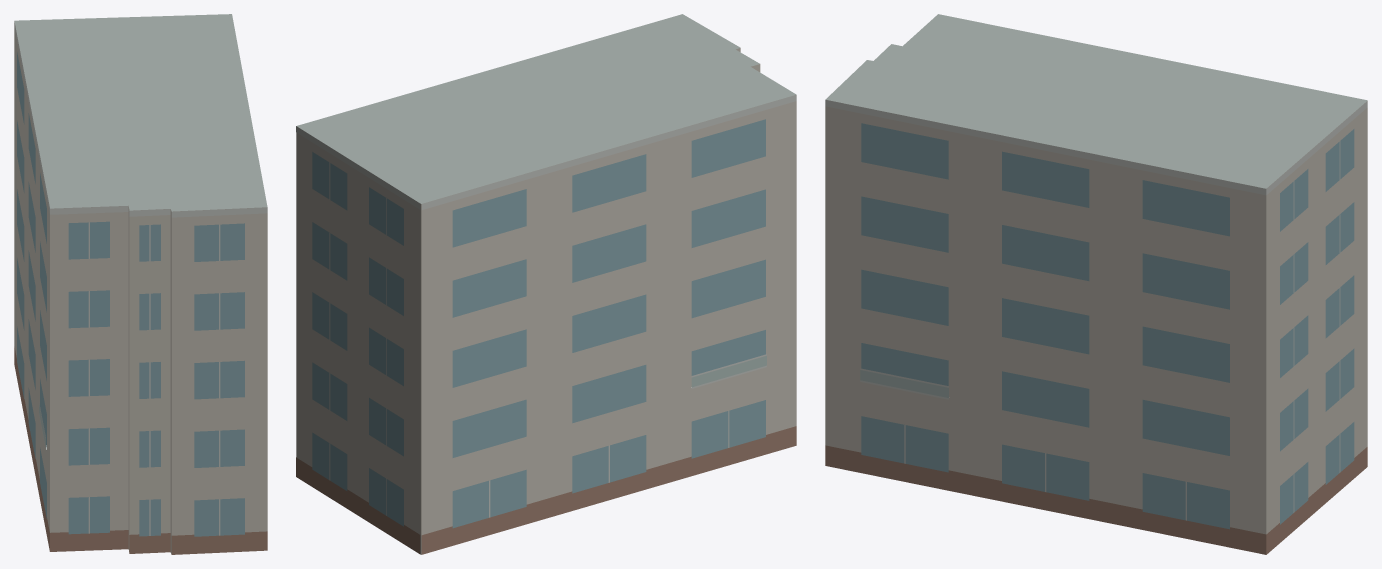
The model's file is survey-upis-33013524.glb.
3 renders of one model, left to right at view 1: azimuth 30°, elevation 25°; view 2: azimuth 150°, elevation 25°; view 3: azimuth 270°, elevation 25°, orthographic. The views are drawn at different scales.
Parts seen in each view (by area): view 1: survey-upis-33013524.tmp; view 2: survey-upis-33013524.tmp; view 3: survey-upis-33013524.tmp.
Part boxes in pixels (<box>): survey-upis-33013524.tmp: <box>14,14,267,554</box>; survey-upis-33013524.tmp: <box>296,14,796,554</box>; survey-upis-33013524.tmp: <box>825,14,1367,554</box>.
Size of the model in its own units: 13.83 by 13.5 by 18.14.
